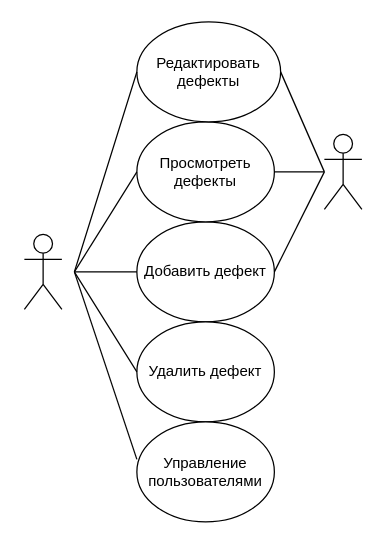
Image size: 384x544. Some labels were removed from this diagram. The centre of each missing label's shape, as x and y in pixels:
"Admin" goes at (42,271).
"User" goes at (342,171).
